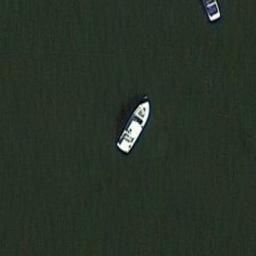boat: (116, 100, 150, 155), (200, 0, 224, 26)
